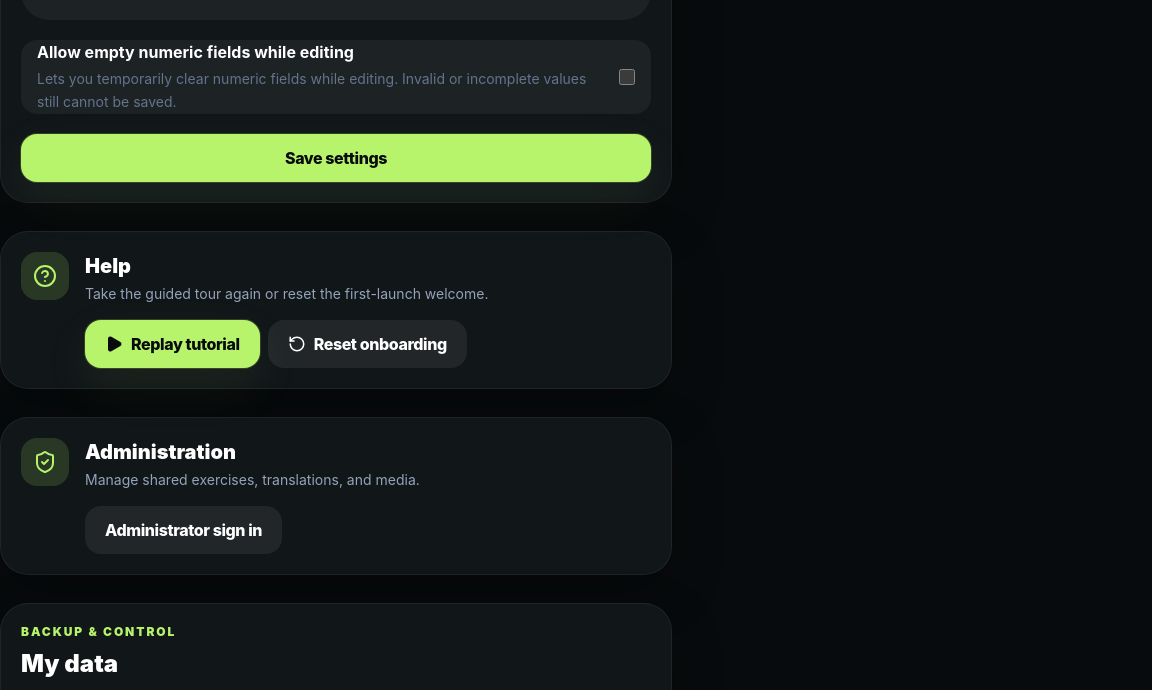
Test: first-run onboarding › replays from Settings without resetting completion
(page scrolled)
What coordinates should you click on to do the following:
click the button "Replay tutorial"
I would click on:
 (172, 344)
Its box is [85, 320, 260, 368].
(page scrolled)
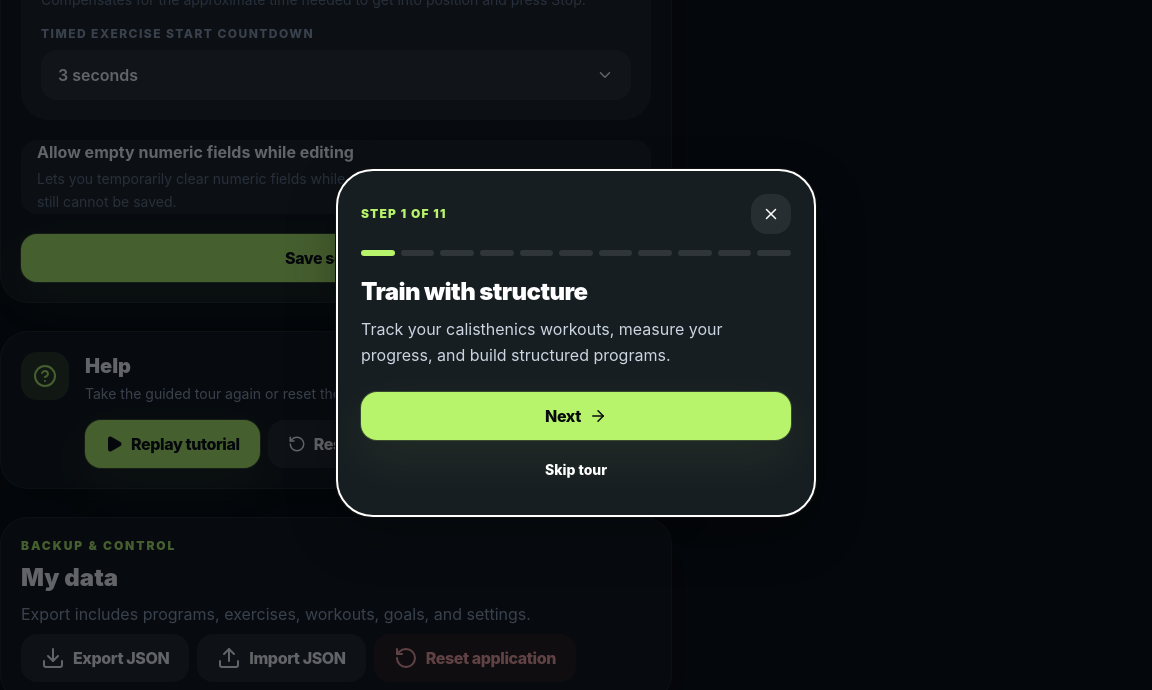
Result: the text "Step 1 of 11" is shown at [361, 206, 446, 222]
